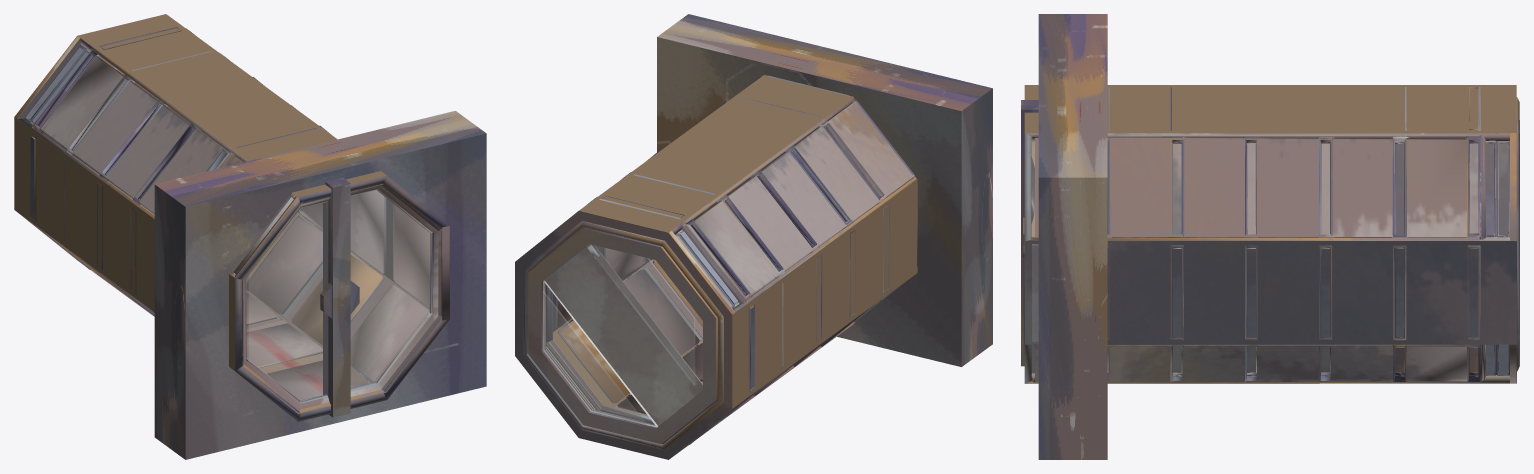
File: LO_airlock.glb
3 views of the same model, side by side, from view 1: azimuth 30°, elevation 25°; view 2: azimuth 150°, elevation 25°; view 3: azimuth 270°, elevation 25° (orthographic). The views are drawn at different scales.
Parts seen in each view (by area): view 1: airlock_main, Cube.001, front door; view 2: airlock_main, Cube.001, glass door; view 3: airlock_main, Cube.001, front door.
Boxes of the visible parts, box(x1,y1,x2,y2) form: airlock_main: box(14, 14, 449, 421); Cube.001: box(154, 111, 486, 459); front door: box(246, 189, 432, 402); airlock_main: box(515, 75, 917, 459); Cube.001: box(657, 14, 992, 366); glass door: box(542, 244, 694, 424); airlock_main: box(1021, 85, 1519, 383); Cube.001: box(1038, 14, 1107, 459); front door: box(1032, 142, 1038, 377).
Bounding box in the file's own units: 4.26 × 3.42 × 5.48.
Materials: 2 (1 with a texture image).
